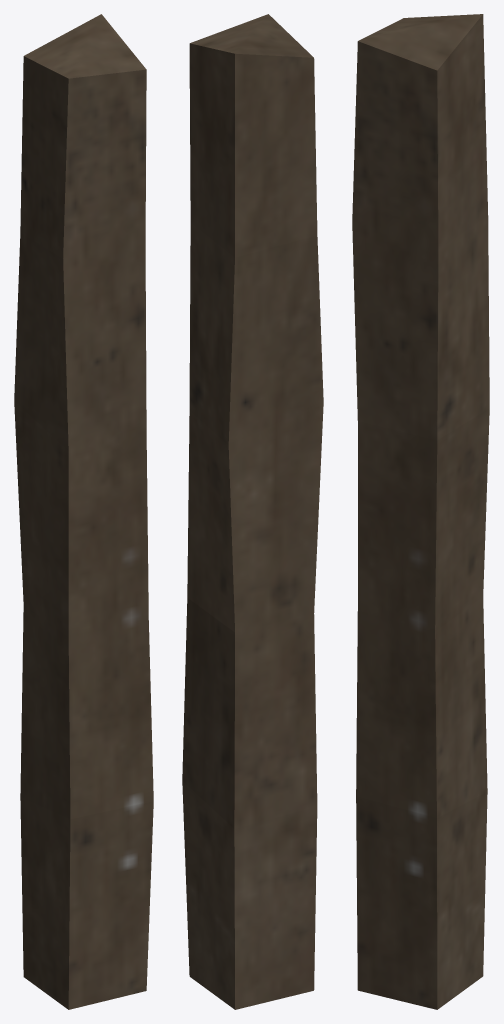
The model's file is FenceVerticalPlank_01.fbx.
3 renders of one model, left to right at view 1: azimuth 30°, elevation 25°; view 2: azimuth 210°, elevation 25°; view 3: azimuth 330°, elevation 25°, orthographic.
Visible parts, largest first — view 1: vertical_plank.002; view 2: vertical_plank.002; view 3: vertical_plank.002.
Part boxes in pixels (x1,y1,x2,y2): vertical_plank.002: (14,14,153,1009); vertical_plank.002: (182,14,323,1009); vertical_plank.002: (352,14,489,1009).
Bounding box in the file's own units: 0.5691 × 5.47 × 0.5375.
